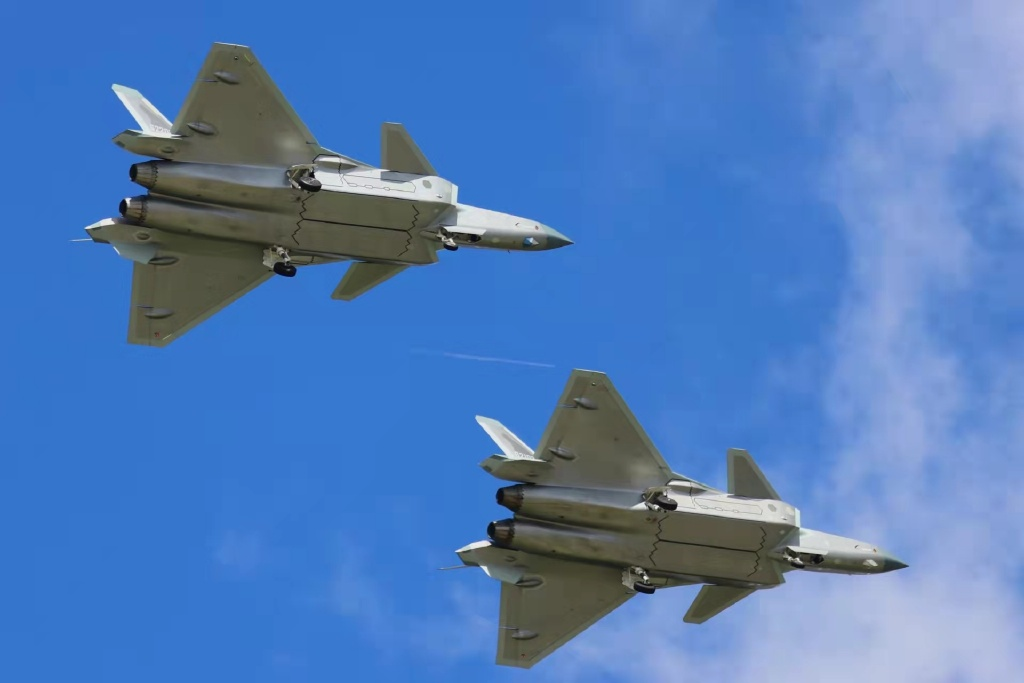J20: (67, 39, 575, 348), (433, 368, 911, 670)
